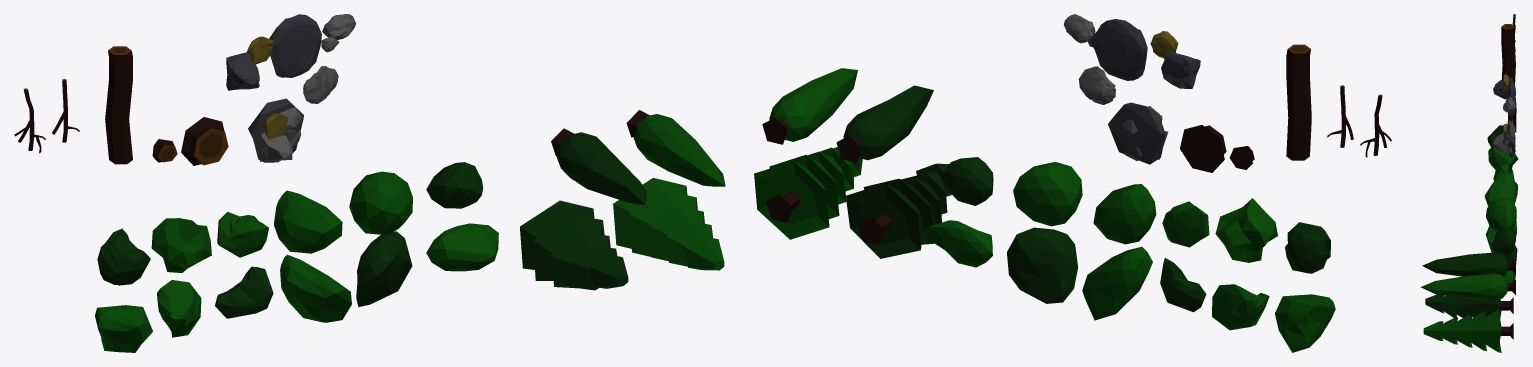
3 views of the same model, side by side, from view 1: azimuth 30°, elevation 25°; view 2: azimuth 150°, elevation 25°; view 3: azimuth 270°, elevation 25° (orthographic). The views are drawn at different scales.
Parts seen in each view (by area): view 1: forest6_1, forest7_1, forest4_1, forest5_1, forest20_1, forest24_1, forest23_1, forest21_1, forest35_1, forest19_1, forest17_1, forest27_1 (+12 smaller); view 2: forest7_1, forest6_1, forest21_1, forest4_1, forest5_1, forest24_1, forest20_1, forest23_1, forest35_1, forest27_1, forest17_1, forest18_1 (+13 smaller); view 3: forest7_1, forest5_1, forest4_1, forest6_1, forest24_1, forest35_1, forest23_1, forest22_1, forest17_1, forest18_1, forest36_1, forest21_1 (+8 smaller).
Boxes of the visible parts, x1,y1,x2,y2 form: forest6_1: (520,200,628,290); forest7_1: (613,178,724,270); forest4_1: (551,128,646,204); forest5_1: (626,110,725,186); forest20_1: (280,254,351,322); forest24_1: (349,171,412,235); forest23_1: (274,190,342,253); forest21_1: (356,231,412,306); forest35_1: (105,46,132,164); forest19_1: (426,223,498,271); forest17_1: (248,98,303,162); forest27_1: (269,14,321,77); forest7_1: (754,147,862,239); forest6_1: (845,163,951,258); forest21_1: (1007,227,1077,303); forest4_1: (836,85,933,162); forest5_1: (762,68,857,144); forest24_1: (1013,162,1082,226); forest20_1: (1082,246,1152,320); forest23_1: (1093,184,1156,244); forest35_1: (1286,44,1311,160); forest27_1: (1090,19,1147,80); forest17_1: (1108,102,1168,164); forest18_1: (1215,198,1277,262); forest7_1: (1423,309,1513,352); forest5_1: (1420,273,1515,300); forest4_1: (1422,252,1515,276); forest6_1: (1425,294,1513,325); forest24_1: (1486,198,1516,232); forest35_1: (1501,24,1515,84); forest23_1: (1484,174,1516,206); forest22_1: (1494,227,1515,254); forest17_1: (1493,120,1515,157); forest18_1: (1488,145,1518,172); forest36_1: (1493,77,1512,99); forest21_1: (1491,240,1517,264).
Bounding box in the file's own units: 1723 × 396 × 813.
